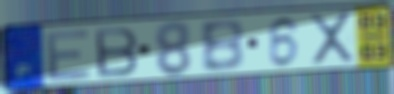6: (266, 16, 301, 68)
8: (152, 19, 194, 78)
B: (197, 18, 247, 74), (92, 26, 140, 79)
E: (45, 27, 94, 84)
X: (306, 10, 358, 67)
